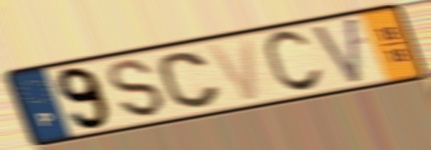9: (52, 66, 117, 132)
C: (261, 28, 327, 96), (156, 50, 225, 112)
S: (107, 57, 169, 120)
V: (202, 35, 263, 104), (308, 14, 364, 88)
